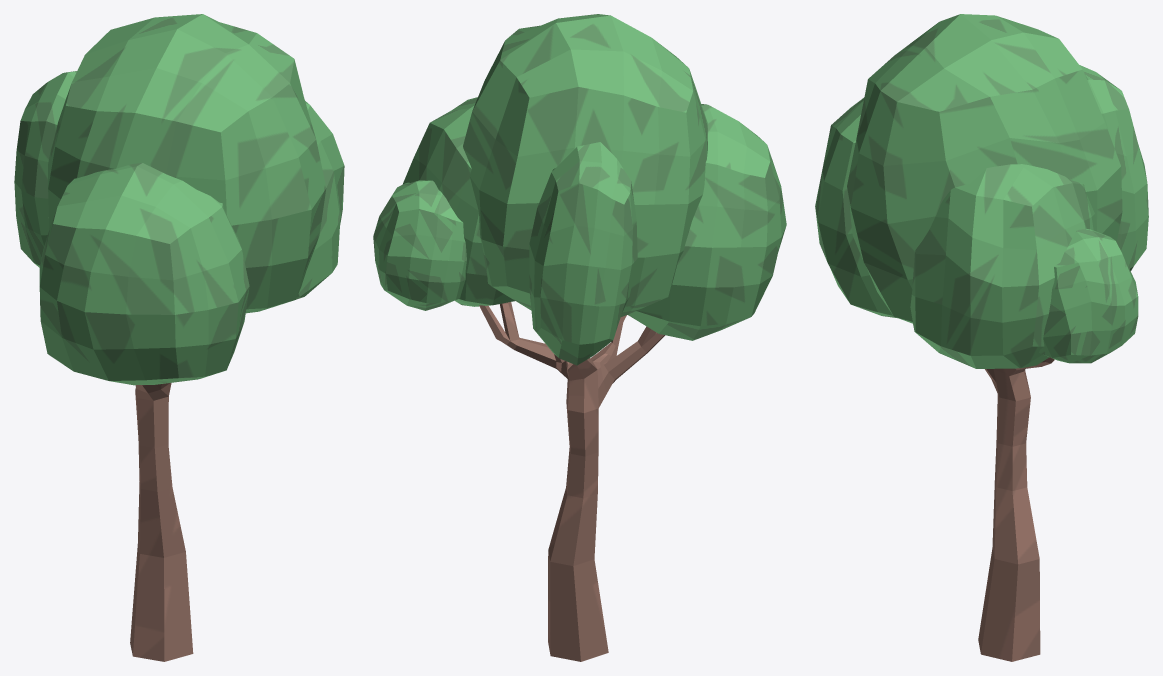
The model's file is msh_TreeClassic02.fbx.
3 views of the same model, side by side, from view 1: azimuth 30°, elevation 25°; view 2: azimuth 150°, elevation 25°; view 3: azimuth 270°, elevation 25° (orthographic). The views are drawn at different scales.
Parts seen in each view (by area): view 1: Cube.009, Cube.008, Cylinder.001, Cube.005, Cube.007; view 2: Cube.009, Cube.005, Cube.008, Cylinder.001, Cube.006, Cube.007; view 3: Cube.009, Cube.007, Cylinder.001, Cube.006, Cube.008, Cube.005.
Part boxes in pixels (x1,y1,x2,y2): Cube.009: [48, 14, 326, 313]; Cube.008: [39, 163, 249, 385]; Cylinder.001: [130, 383, 193, 661]; Cube.005: [14, 71, 76, 267]; Cube.007: [296, 101, 344, 299]; Cube.009: [463, 14, 707, 316]; Cube.005: [529, 142, 637, 365]; Cube.008: [628, 104, 786, 340]; Cylinder.001: [479, 302, 664, 661]; Cube.006: [373, 180, 466, 310]; Cube.007: [402, 97, 514, 306]; Cube.009: [847, 14, 1122, 323]; Cube.007: [910, 164, 1096, 368]; Cylinder.001: [978, 357, 1054, 661]; Cube.006: [1039, 229, 1138, 363]; Cube.008: [815, 97, 897, 318]; Cube.005: [1079, 65, 1148, 270].
Bounding box in the file's own units: 196 × 364 × 175.
